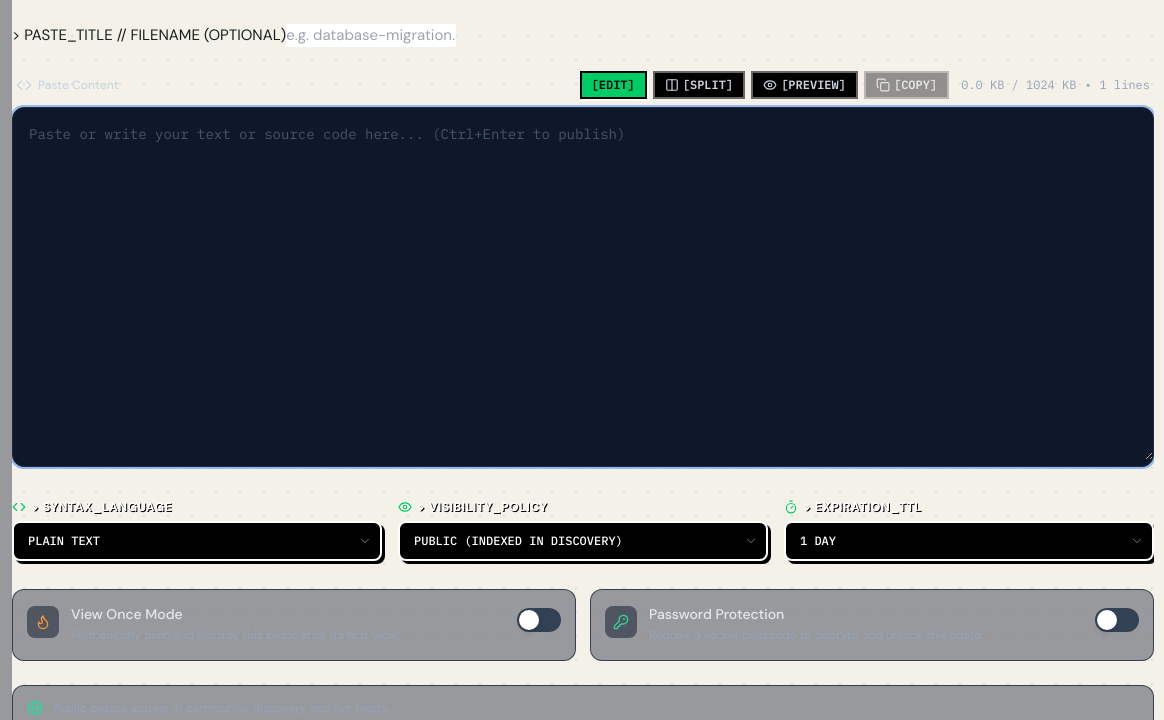
Sharing Everywhere UI › VIS-02: creation form keeps the PUBLIC/UNLISTED visibility explanations
expect the text "Public pastes appear in community discovery and live feeds." is shown: met, box [53,700,389,716]
Select "UNLISTED (OPAQUE LINK ONLY)" in the dropdown labelled "> VISIBILITY_POLICY" at (583,541), box [398,521,768,561]
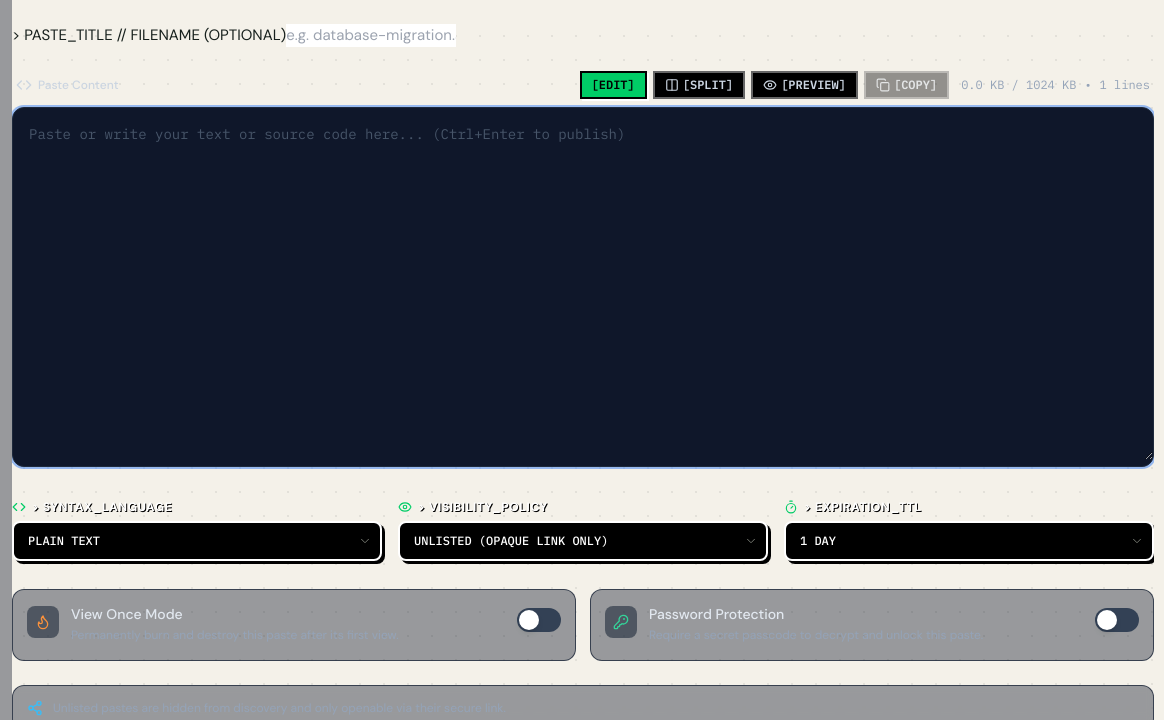
expect the text "Unlisted pastes are hidden from discovery" is shown: met, box [53,700,506,716]
